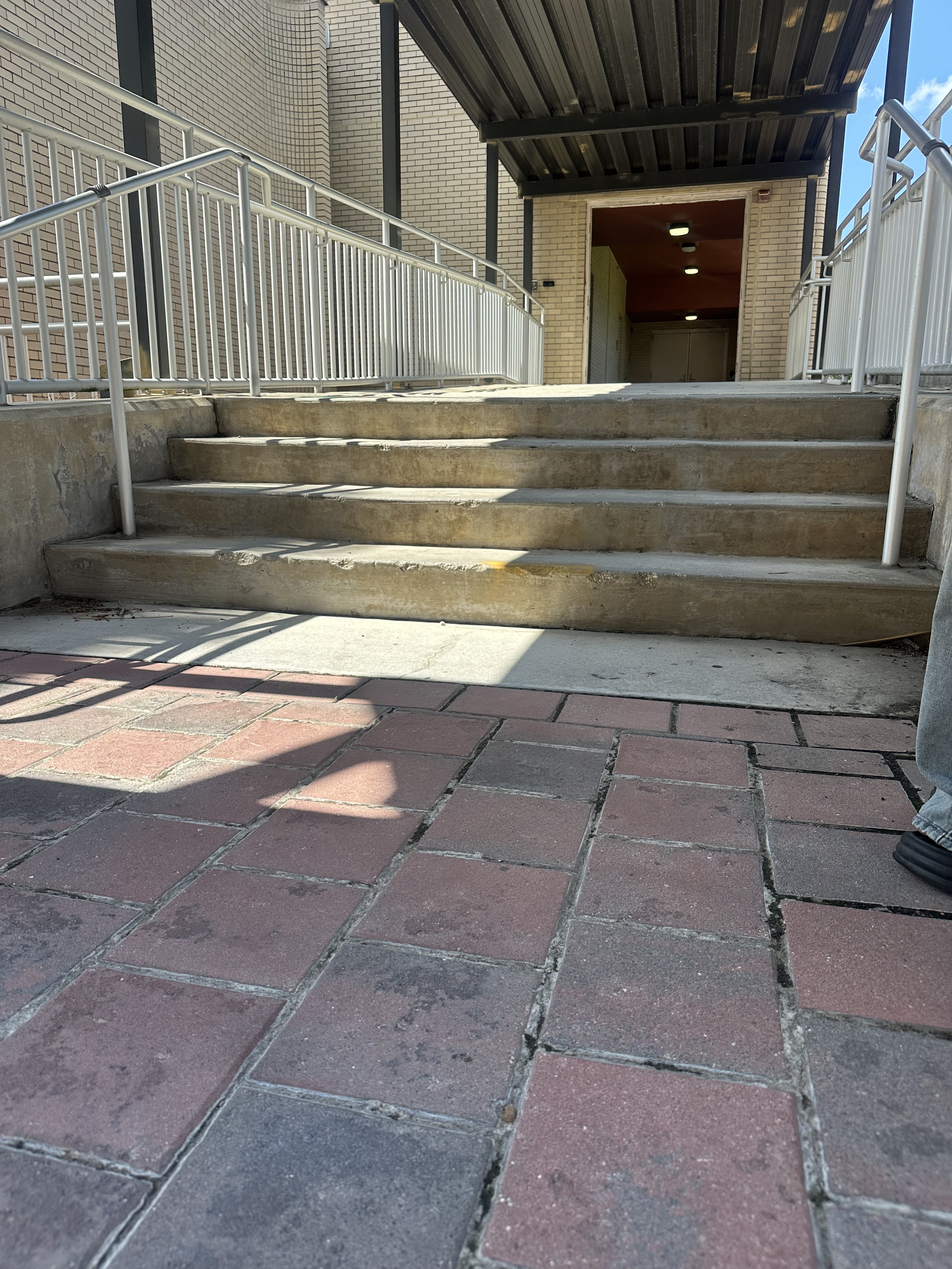stairs: (47, 401, 940, 647)
